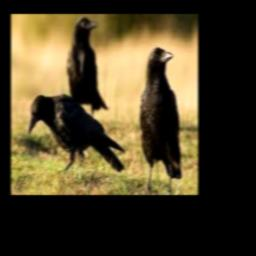Crow: (28, 93, 125, 173), (140, 47, 181, 194), (67, 17, 108, 119)
